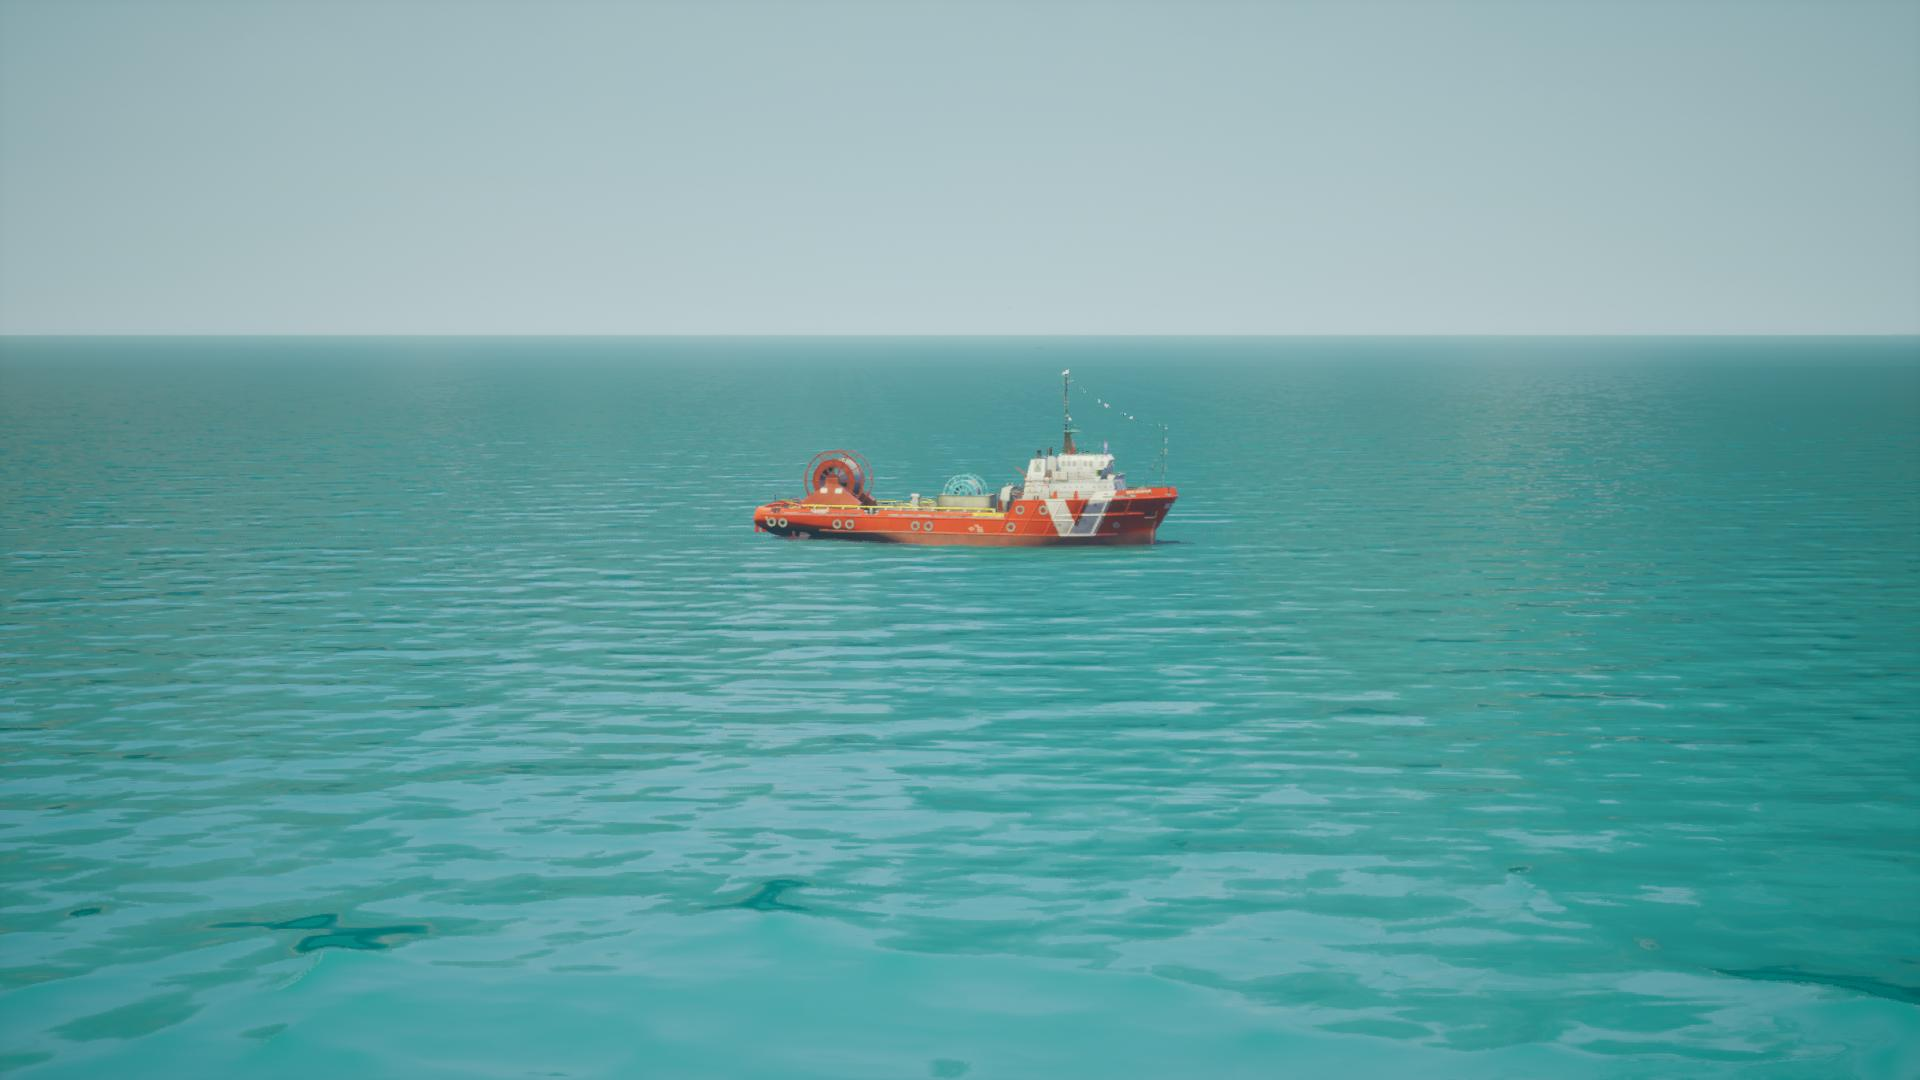Tug Boat: (754, 372, 1183, 550)
